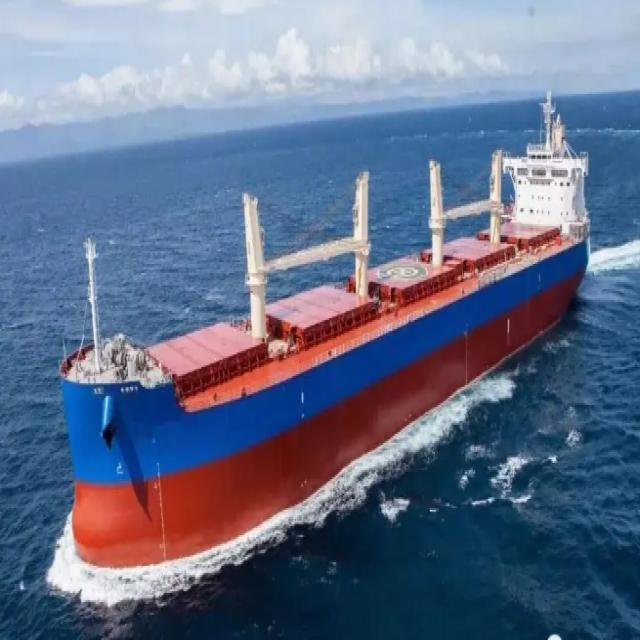cargoship: (57, 86, 603, 572)
